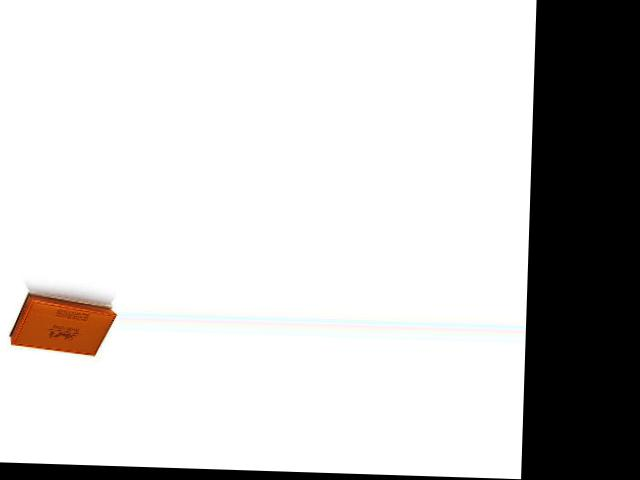chocolate: (6, 284, 116, 359)
